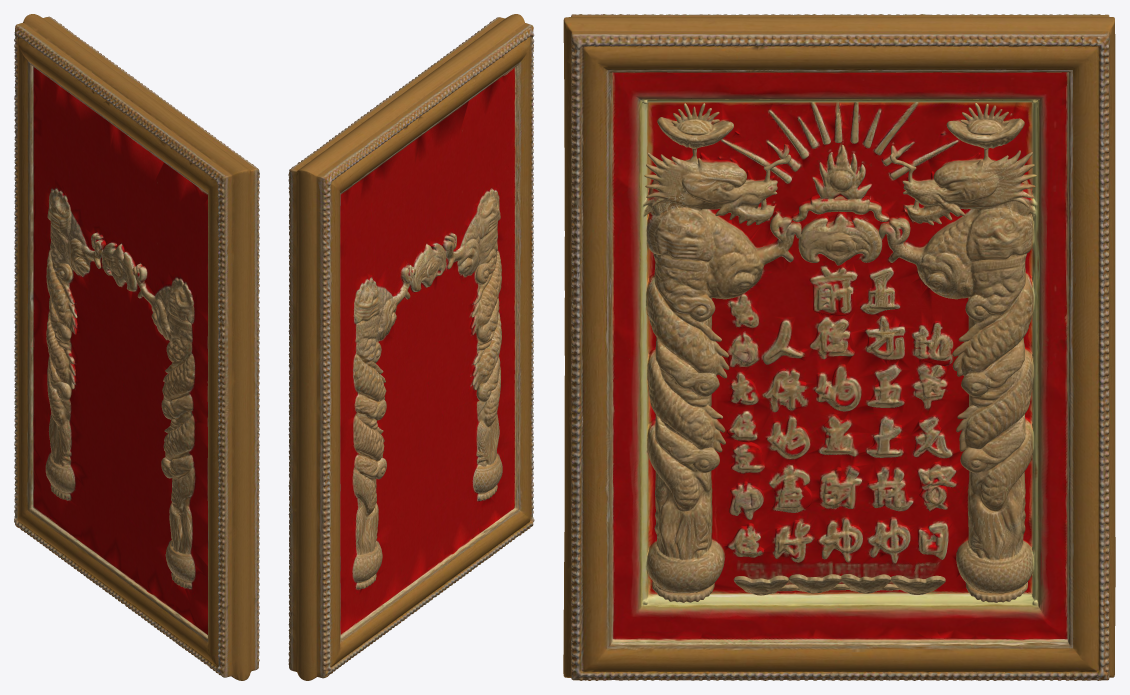
File: ornate framed plaque 3d model.glb
The picture shows the model from 3 angles, left to right: view 1: azimuth 30°, elevation 25°; view 2: azimuth 150°, elevation 25°; view 3: azimuth 270°, elevation 25°; orthographic projection. The views are drawn at different scales.
Visible parts, largest first — view 1: tripo_node_863fabb4-08b1-4332-a6dc-e2e59dd75982; view 2: tripo_node_863fabb4-08b1-4332-a6dc-e2e59dd75982; view 3: tripo_node_863fabb4-08b1-4332-a6dc-e2e59dd75982.
Part boxes in pixels (<box>): tripo_node_863fabb4-08b1-4332-a6dc-e2e59dd75982: <box>14,14,259,680</box>; tripo_node_863fabb4-08b1-4332-a6dc-e2e59dd75982: <box>288,14,534,680</box>; tripo_node_863fabb4-08b1-4332-a6dc-e2e59dd75982: <box>563,14,1115,680</box>.
Bounding box in the file's own units: 0.1057 × 1 × 0.7611.
1 material, 1 textured.
